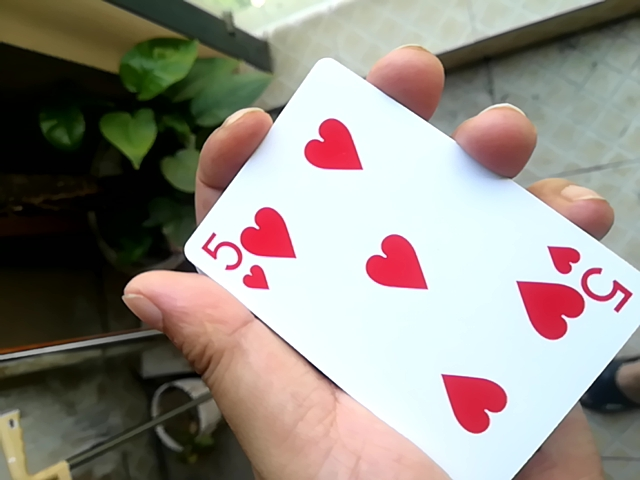hx 5: (169, 55, 639, 480)
